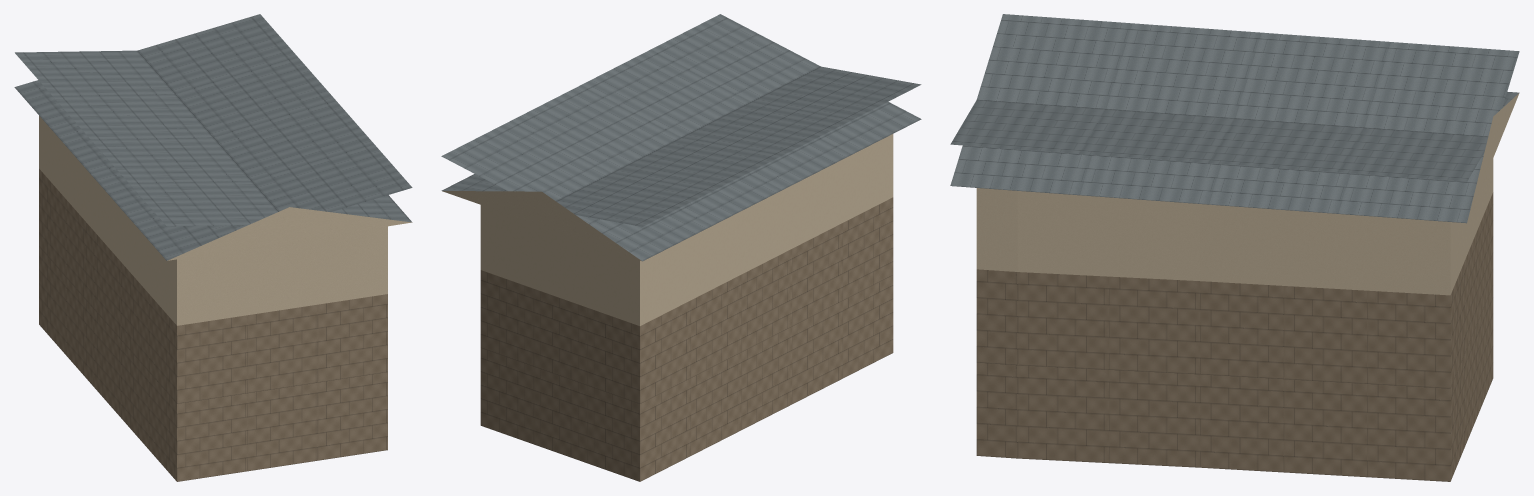
Rendered from bld_c-14_27_481.gltf.
3 views of the same model, side by side, from view 1: azimuth 30°, elevation 25°; view 2: azimuth 150°, elevation 25°; view 3: azimuth 270°, elevation 25° (orthographic). The views are drawn at different scales.
Visible parts, largest first — view 1: bld_c-14_27_481; view 2: bld_c-14_27_481; view 3: bld_c-14_27_481.
Boxes of the visible parts, x1,y1,x2,y2 form: bld_c-14_27_481: [14, 14, 412, 481]; bld_c-14_27_481: [441, 14, 921, 481]; bld_c-14_27_481: [950, 14, 1519, 481].
Bounding box in the file's own units: 8.68 × 7.7 × 12.45.
Materials: 4 (4 with a texture image).
